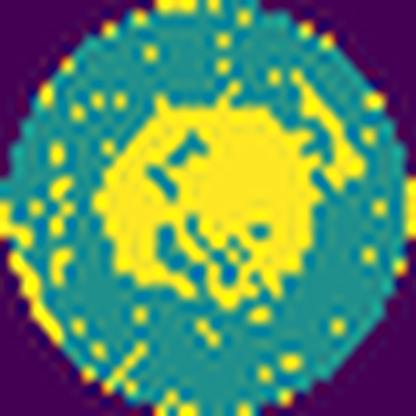Center: (95, 95, 324, 313)
